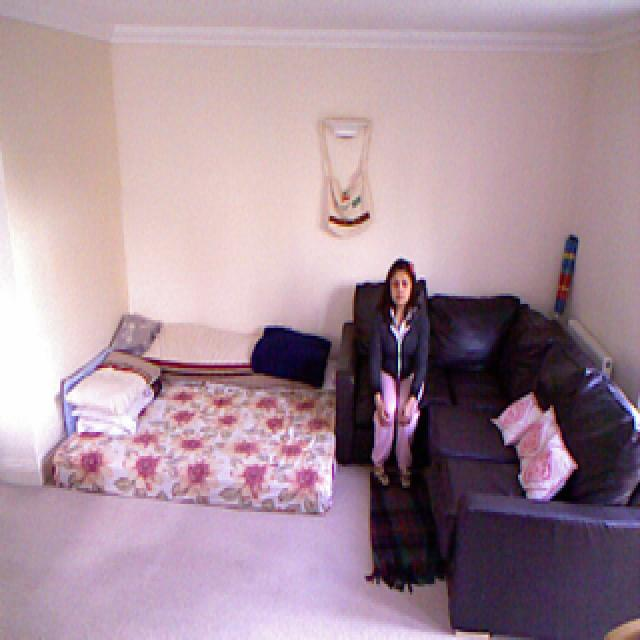sitting: (367, 259, 430, 494)
